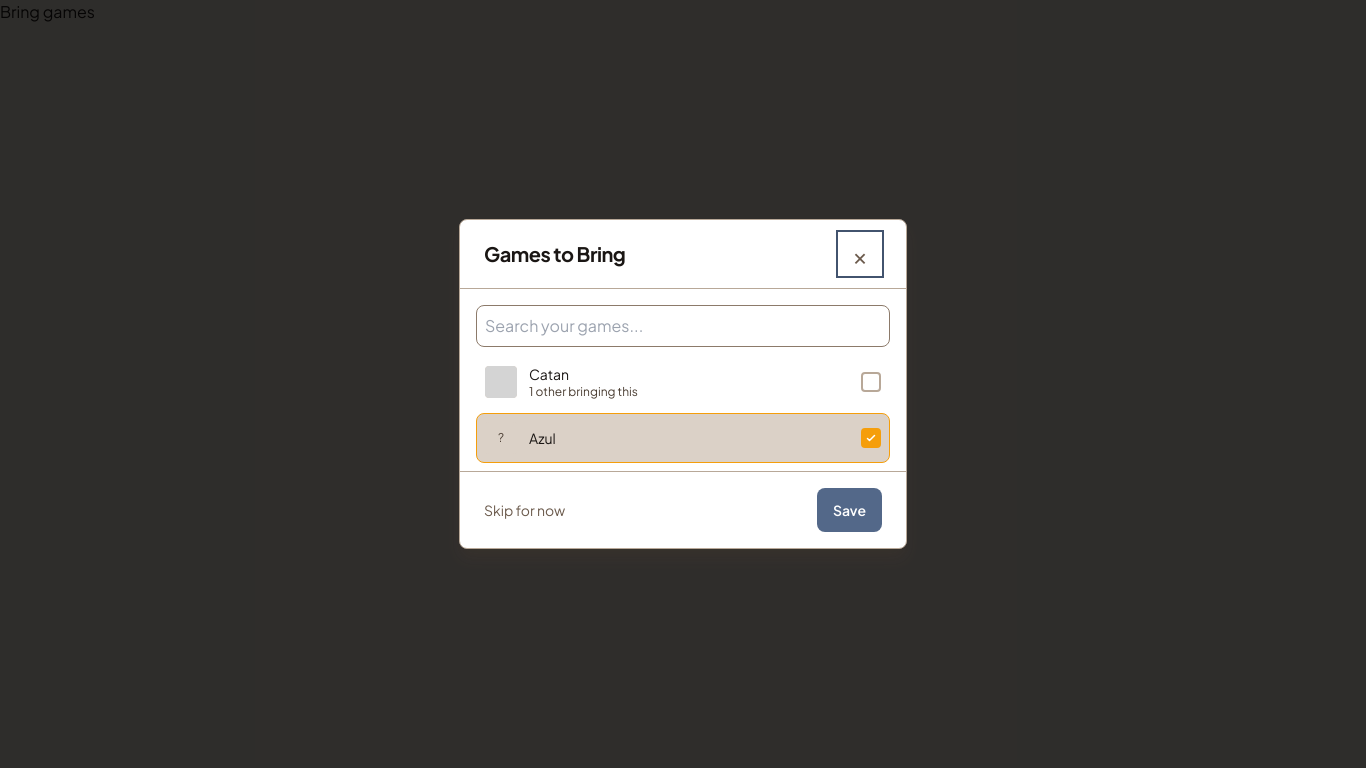
Test: BringGamePicker — the surface renders (non-axe) › filters the rows on typing and shows the no-match copy without announcing a count
In the field labelled "Search your games": coordinates (683, 326) [476, 305, 890, 347], type "zzz"
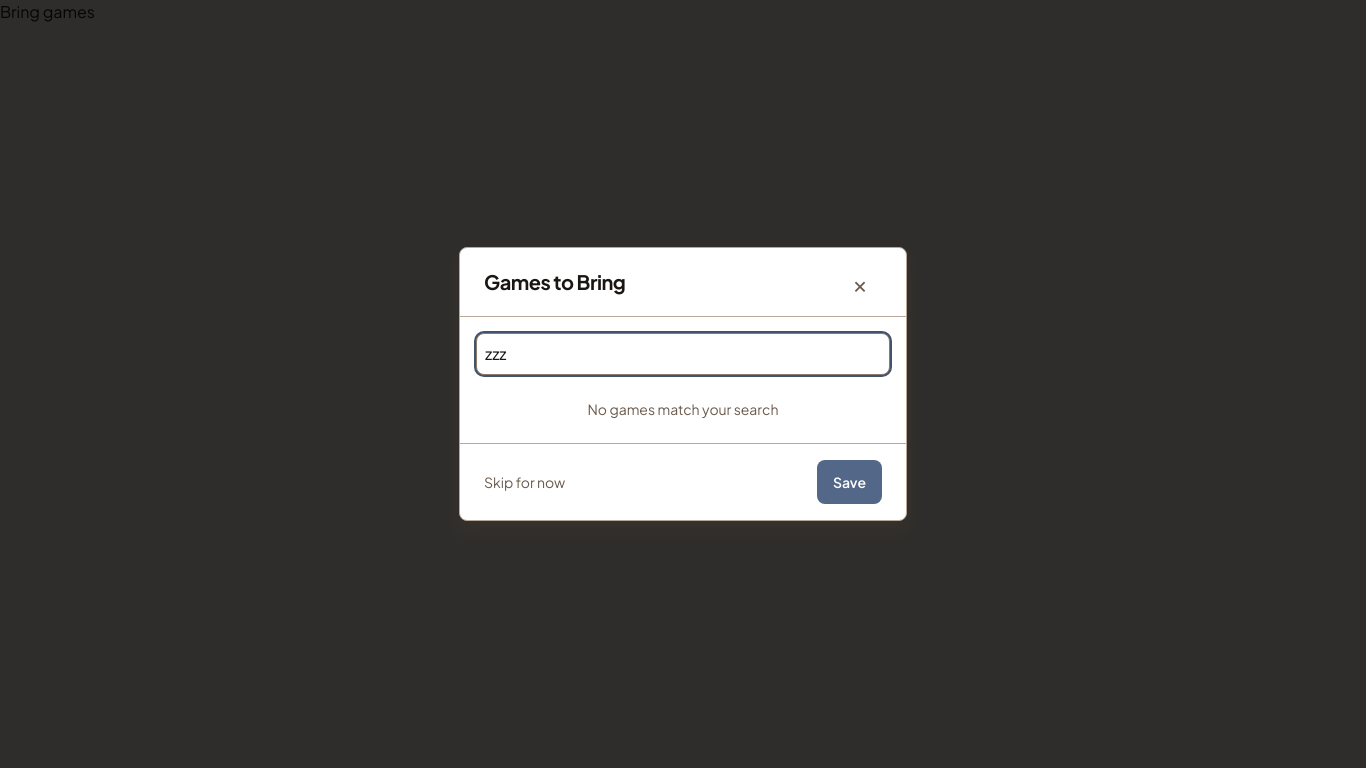
Expected: the text "No games match your search" is shown, [588, 400, 778, 418]
Expected: no checkboxes are shown
